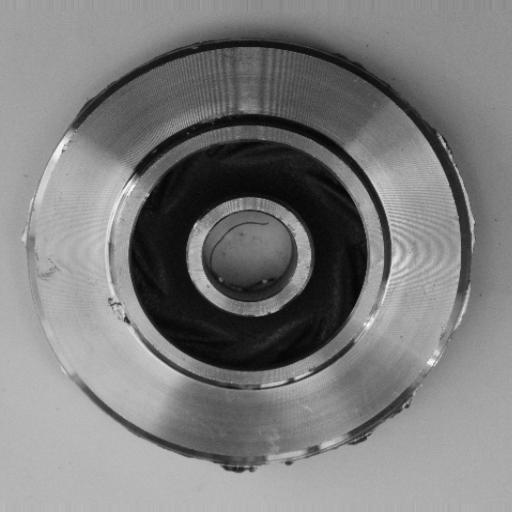casting_with_burr: (17, 35, 479, 478)
crack: (98, 288, 138, 337)
scratch: (355, 276, 402, 348), (240, 366, 323, 392), (112, 161, 149, 205)
